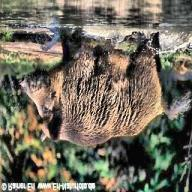boar: (19, 27, 191, 147)
